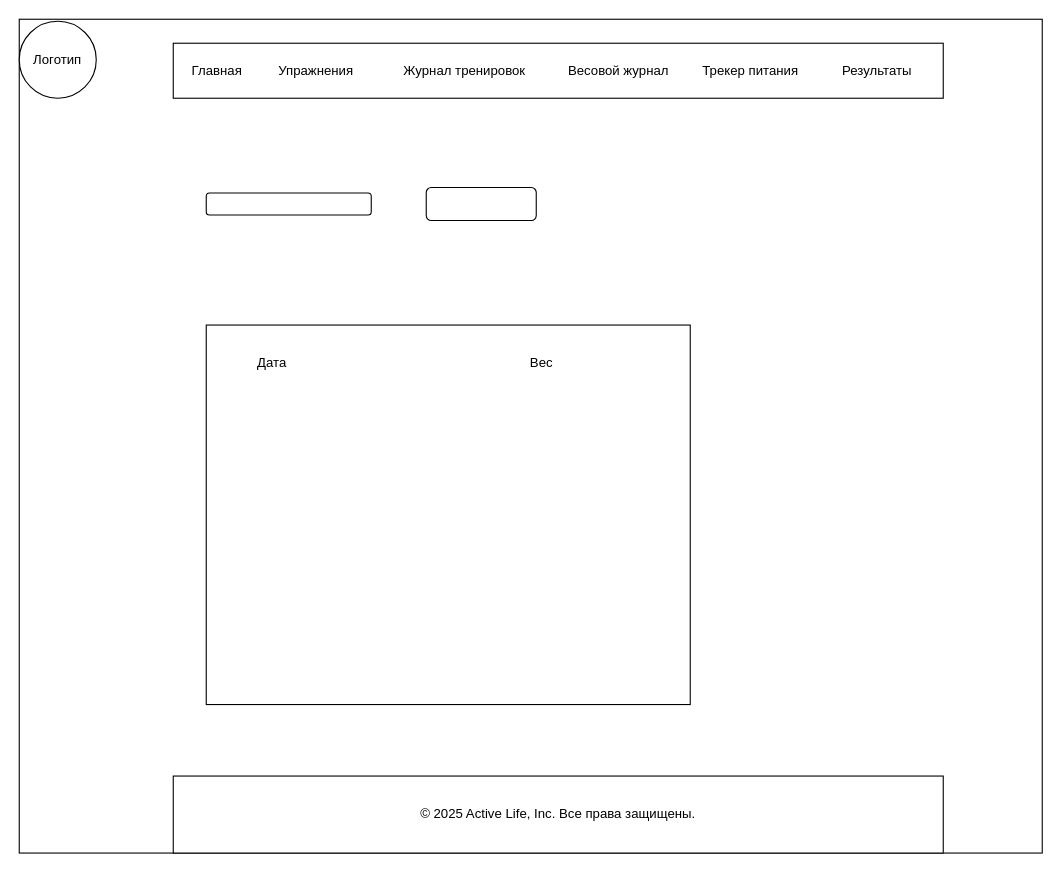
The diagram is 1062 pixels wide and 872 high, and some of its shapes have lost their labels. The shapes that lost their labels are listed below. From the top down, each one's centre as x and y in pixels, then its label:
At point 288,203: "Ваш вес".
At point 480,203: "Записать".
